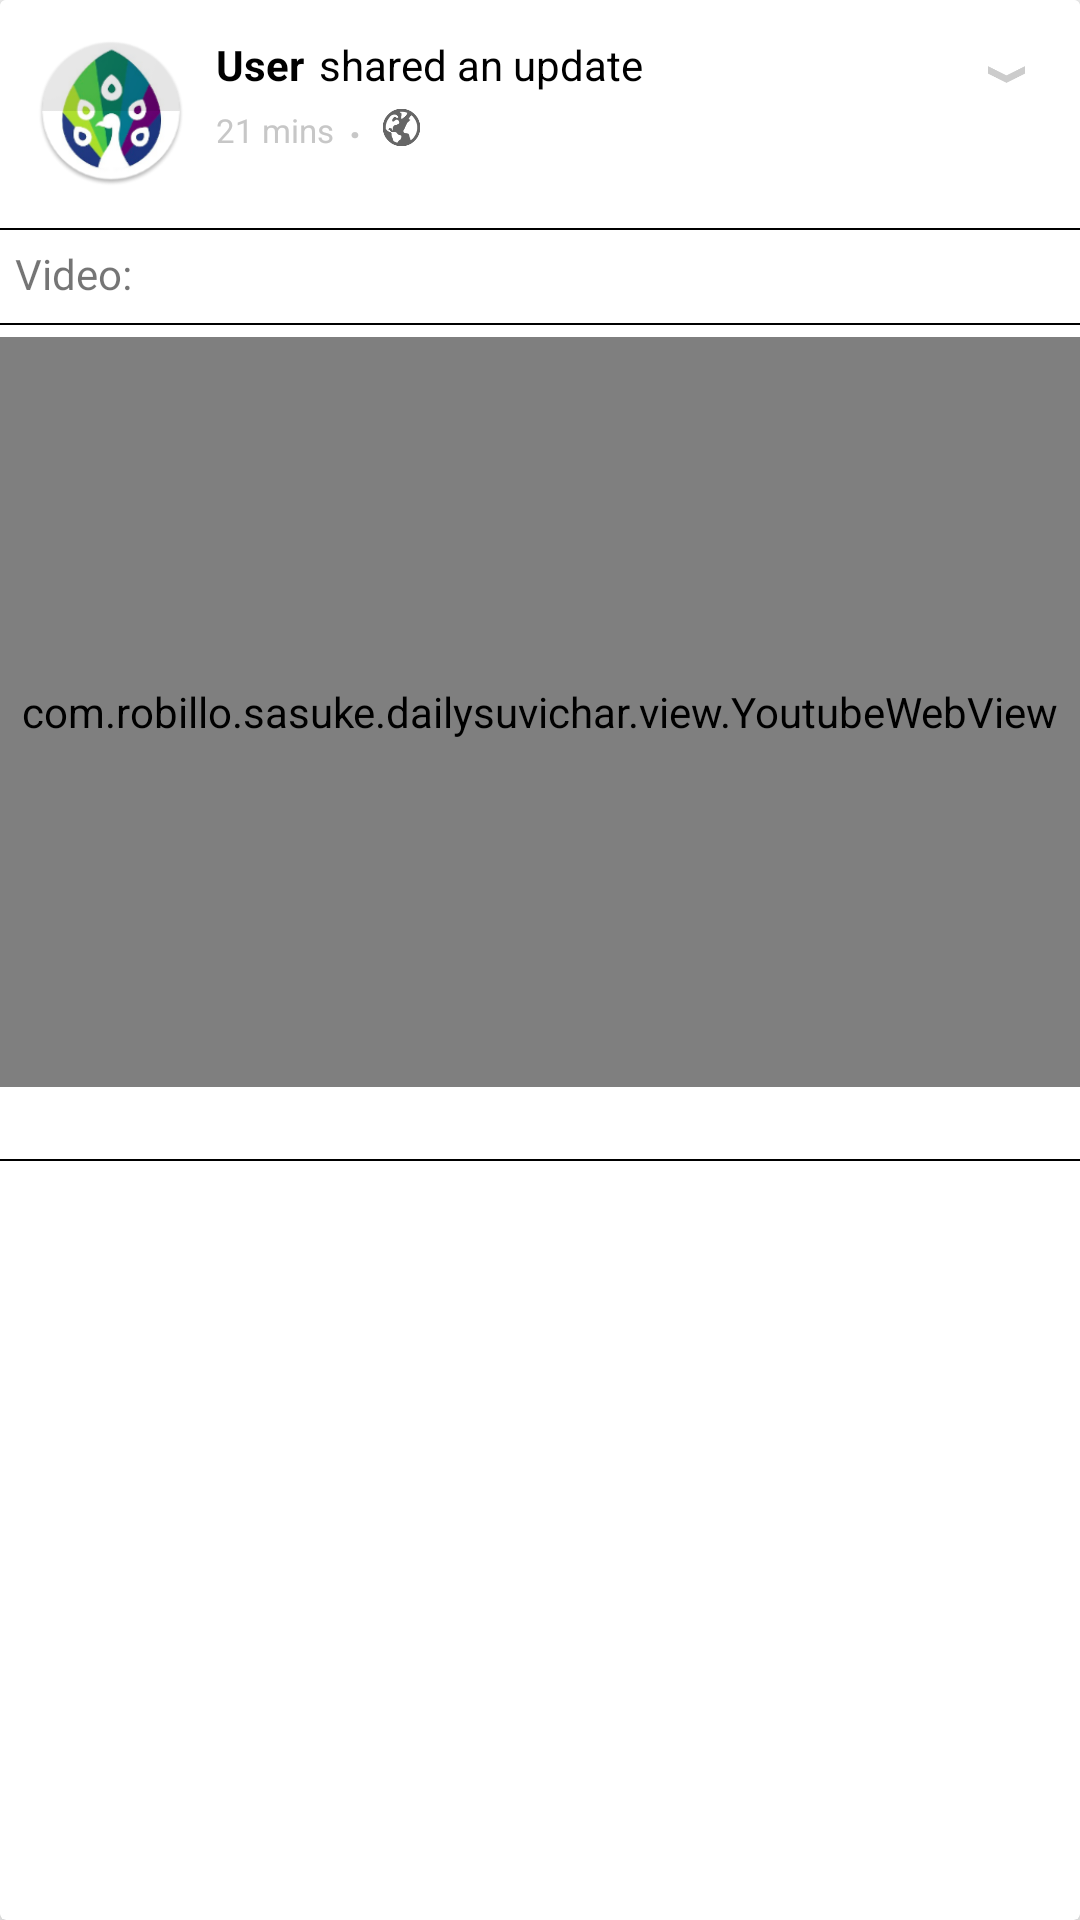

Named icons in this screenshot (1080w x 1920h) and their centers, point (x, y):
down: point (1006, 74)
globe: point (401, 127)
